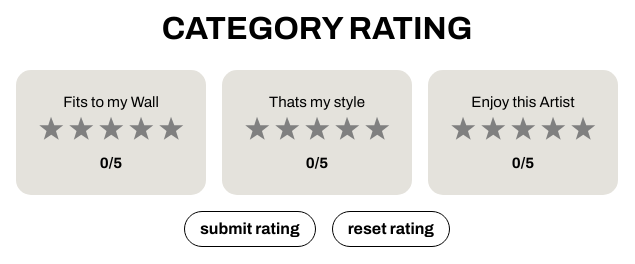
Test: categoryStarRating › should click the 3rd star and verify rating and reset it
The width and height of the screenshot is (635, 264).
Click the 3rd element with class "star".
click(111, 133)  # box [96, 114, 126, 151]
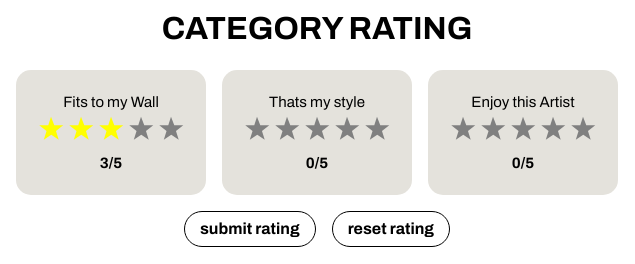
Expected: the text "3/5" is shown, [100, 155, 122, 171]
Click the button "Reset Rating".
click(391, 229)  # box [332, 211, 450, 247]
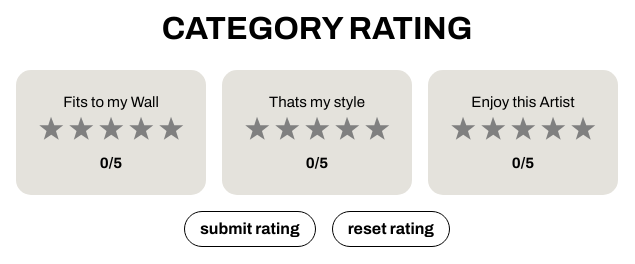
Expected: the text "0/5" below "Fits to my Wall" is shown, [100, 155, 122, 171]
